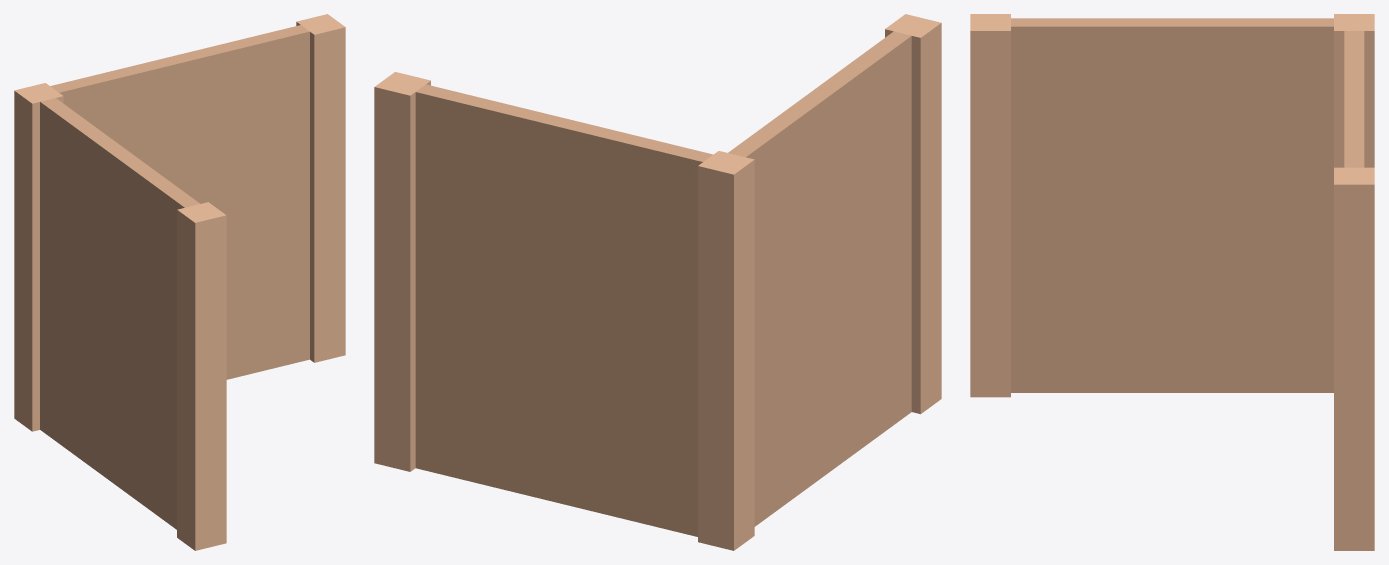
Rendered from wallWoodCorner.glb.
3 views of the same model, side by side, from view 1: azimuth 30°, elevation 25°; view 2: azimuth 150°, elevation 25°; view 3: azimuth 270°, elevation 25° (orthographic). The views are drawn at different scales.
Parts seen in each view (by area): view 1: wallWoodCorner; view 2: wallWoodCorner; view 3: wallWoodCorner.
Part boxes in pixels (x1,y1,x2,y2): wallWoodCorner: (14, 14, 345, 550); wallWoodCorner: (374, 14, 941, 550); wallWoodCorner: (970, 14, 1374, 550).
Bounding box in the file's own units: 1 × 1 × 1.
